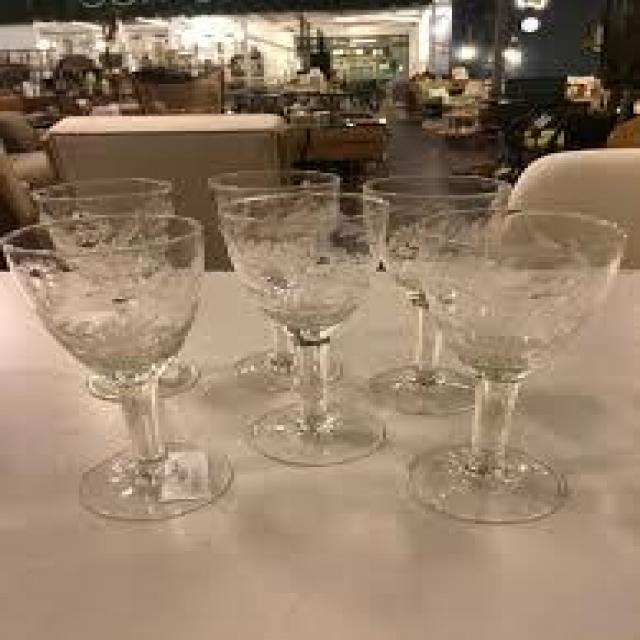non-organic waste: (2, 210, 249, 531)
